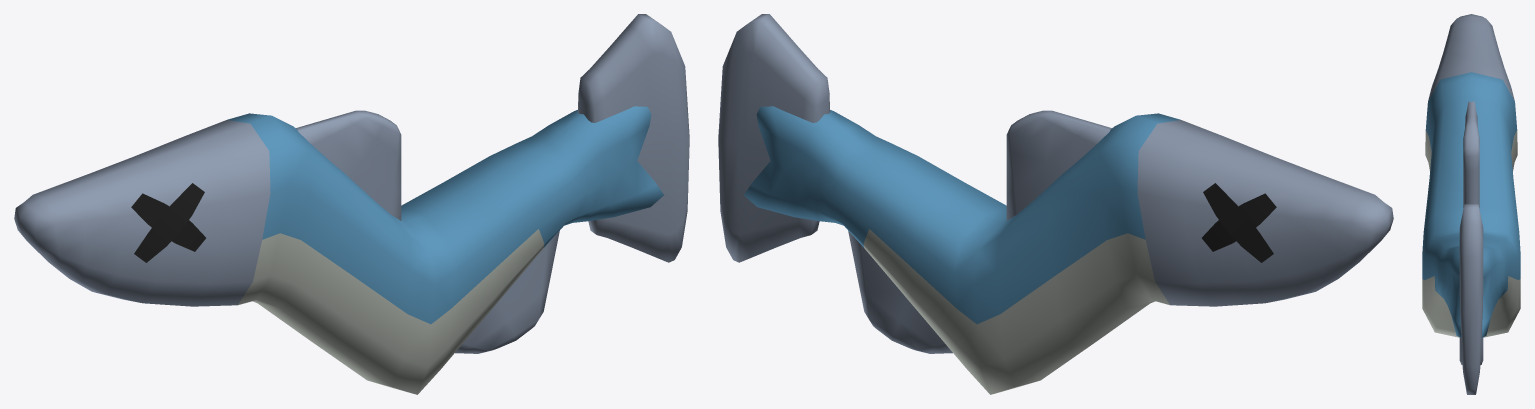
Rendered from DeadFish.glb.
The picture shows the model from 3 angles, left to right: view 1: azimuth 30°, elevation 25°; view 2: azimuth 150°, elevation 25°; view 3: azimuth 270°, elevation 25°; orthographic projection. The views are drawn at different scales.
Parts seen in each view (by area): view 1: FoodIngredient_Mackerel; view 2: FoodIngredient_Mackerel; view 3: FoodIngredient_Mackerel.
Part boxes in pixels (bbox=[...]): FoodIngredient_Mackerel: bbox=[14, 14, 689, 394]; FoodIngredient_Mackerel: bbox=[718, 14, 1393, 394]; FoodIngredient_Mackerel: bbox=[1422, 14, 1520, 394].
Size of the model in its own units: 1.11 by 0.4917 by 0.1941.
1 material, 1 textured.
